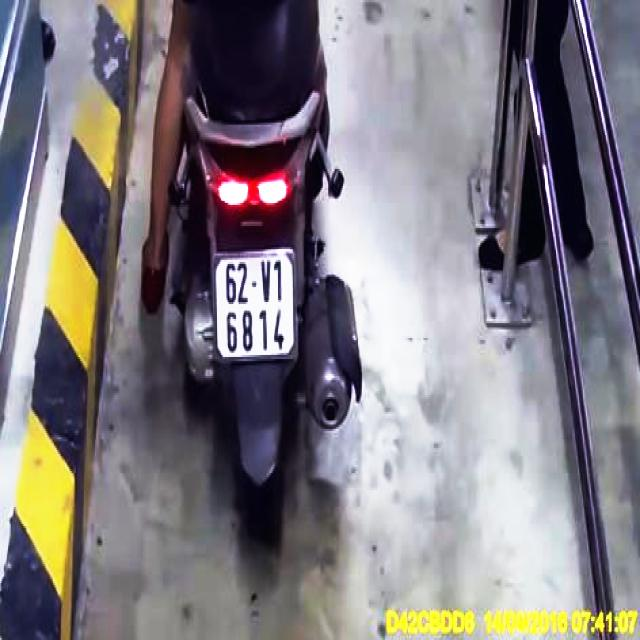license_plate: (218, 254, 294, 359)
